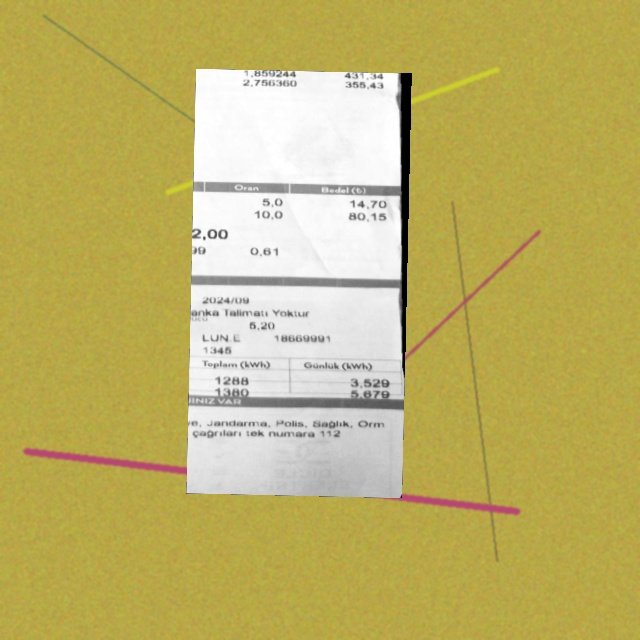electricity-bill: (185, 69, 411, 498)
